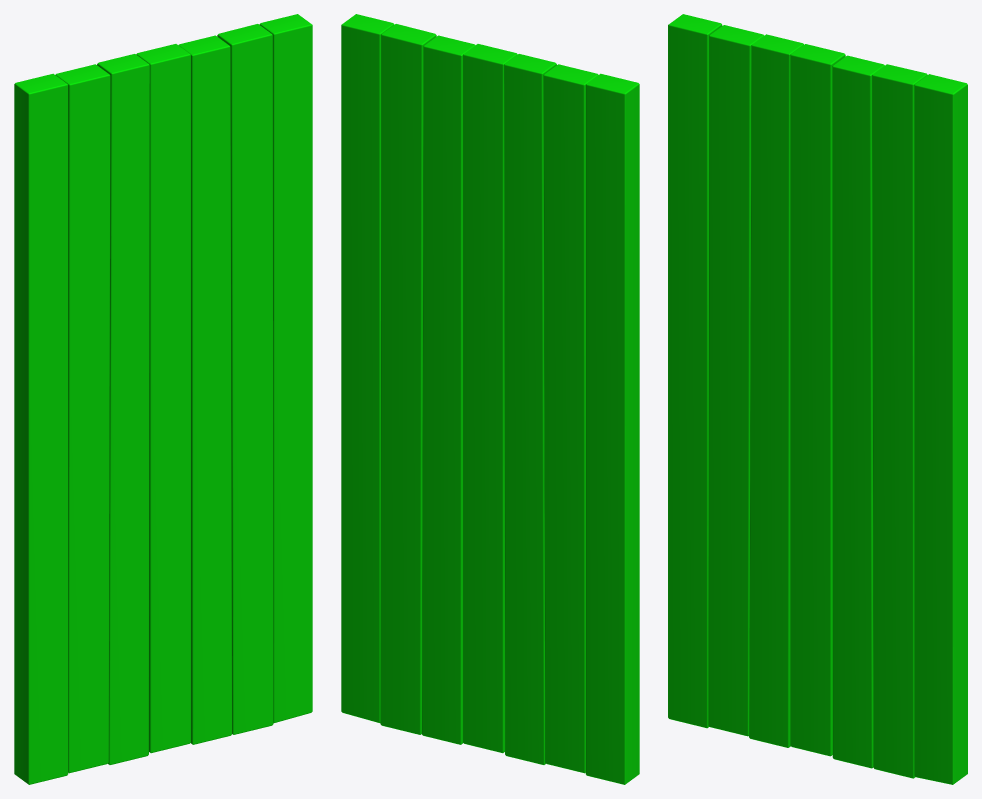
File: DoorInterior1.fbx
3 views of the same model, side by side, from view 1: azimuth 30°, elevation 25°; view 2: azimuth 150°, elevation 25°; view 3: azimuth 330°, elevation 25° (orthographic).
Visible parts, largest first — view 1: DoorInterior1; view 2: DoorInterior1; view 3: DoorInterior1.
Part boxes in pixels (x1=…): DoorInterior1: x1=14, y1=14, x2=312, y2=784; DoorInterior1: x1=341, y1=14, x2=639, y2=784; DoorInterior1: x1=668, y1=14, x2=967, y2=784.
Size of the model in its own units: 108 by 252 by 10.
